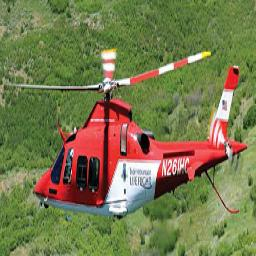helicopter: (12, 46, 252, 215)
